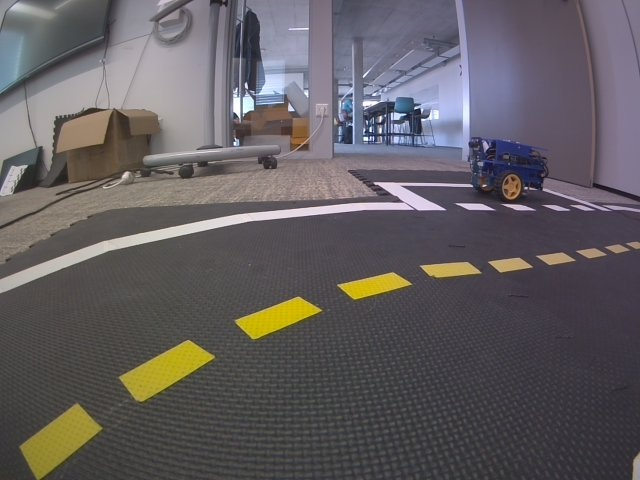Bot: (467, 136, 548, 203)
occupiedSlot: (375, 182, 612, 212)
